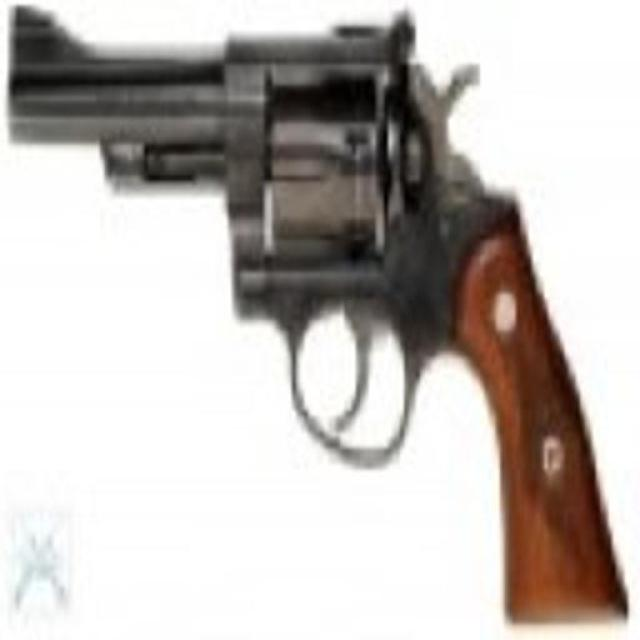pistol: (4, 5, 620, 617)
